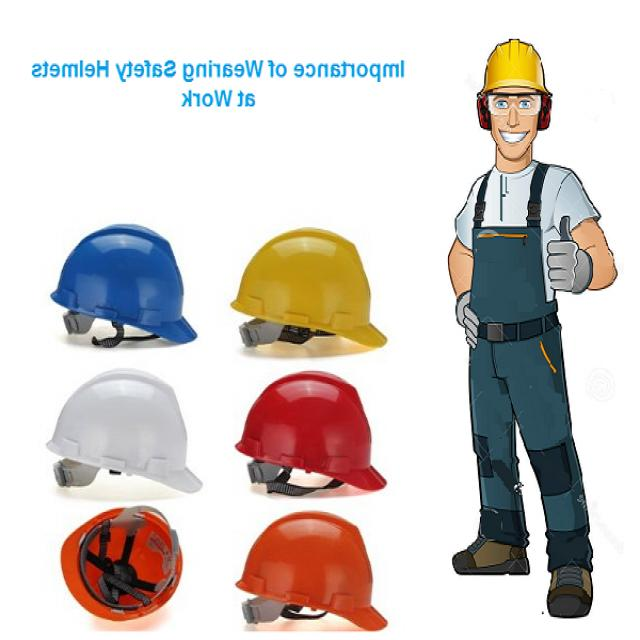Safety-Helmet: (39, 364, 202, 505), (230, 217, 390, 358), (233, 367, 387, 502), (234, 504, 387, 636), (47, 218, 197, 352), (56, 505, 187, 626), (477, 34, 550, 96)
